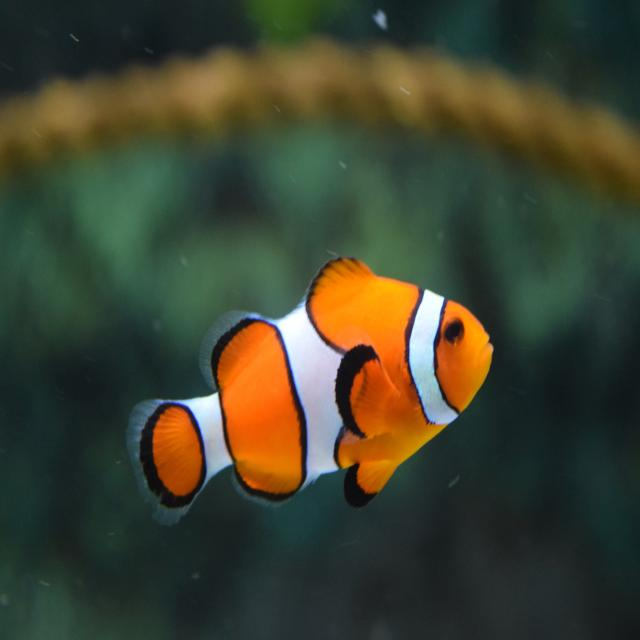animal: (129, 255, 492, 538)
